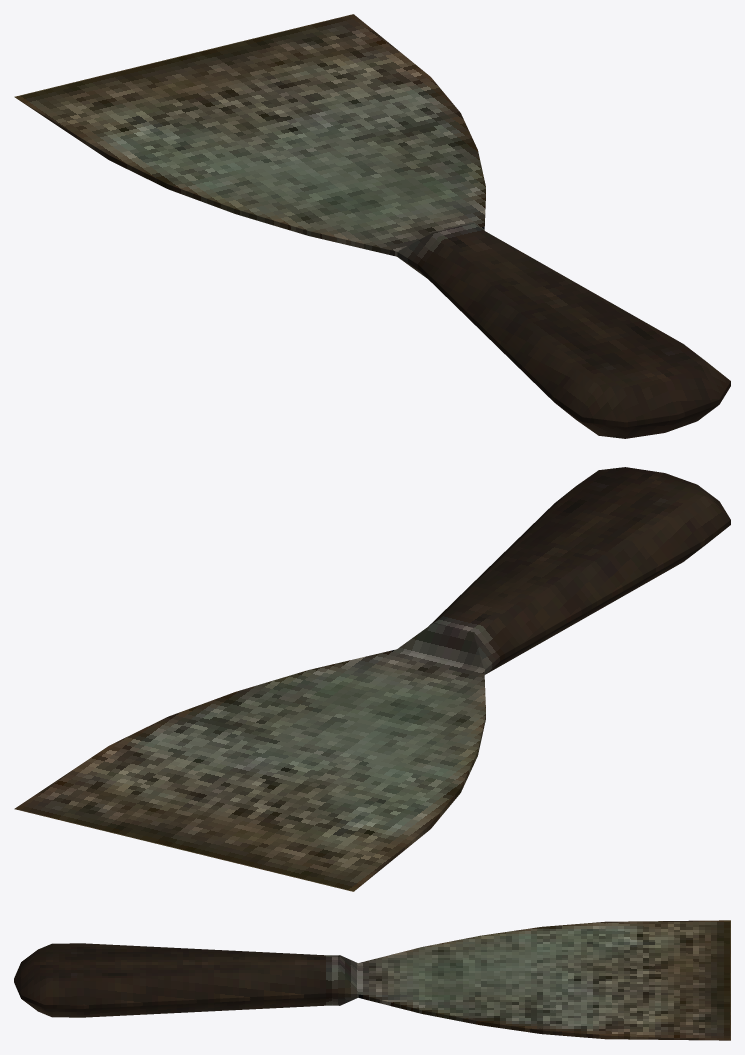
File: misc_tool_mx_5.glb
3 views of the same model, one above another, from view 1: azimuth 30°, elevation 25°; view 2: azimuth 150°, elevation 25°; view 3: azimuth 270°, elevation 25° (orthographic). The views are drawn at different scales.
Visible parts, largest first — view 1: misc_tool_mx_5; view 2: misc_tool_mx_5; view 3: misc_tool_mx_5.
Part boxes in pixels (bbox=[...]): misc_tool_mx_5: bbox=[14, 14, 730, 438]; misc_tool_mx_5: bbox=[14, 467, 730, 891]; misc_tool_mx_5: bbox=[14, 920, 730, 1040].
Bounding box in the file's own units: 0.1422 × 0.02 × 0.3582.
1 material, 1 textured.
